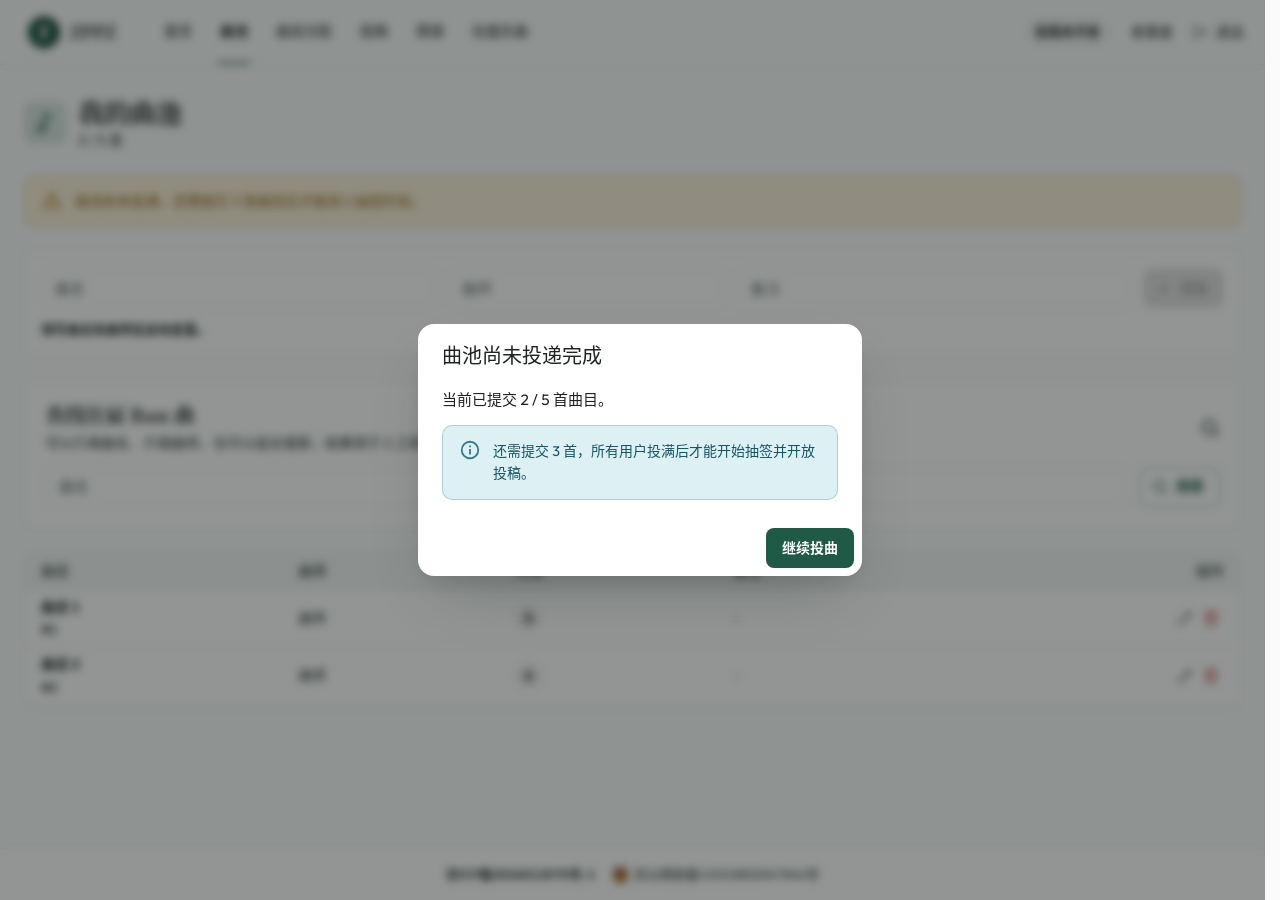
Material application shell › warns when the current user has not filled their song pool
Expected: the dialog "曲池尚未投递完成" is shown, [418,324,862,576]
Expected: the text "曲池尚未投满，还需提交 3 首曲目后才能进入抽签阶段。" is shown, [75,192,425,210]
Click the button "继续投曲" at (810, 548), box [766,528,854,568]
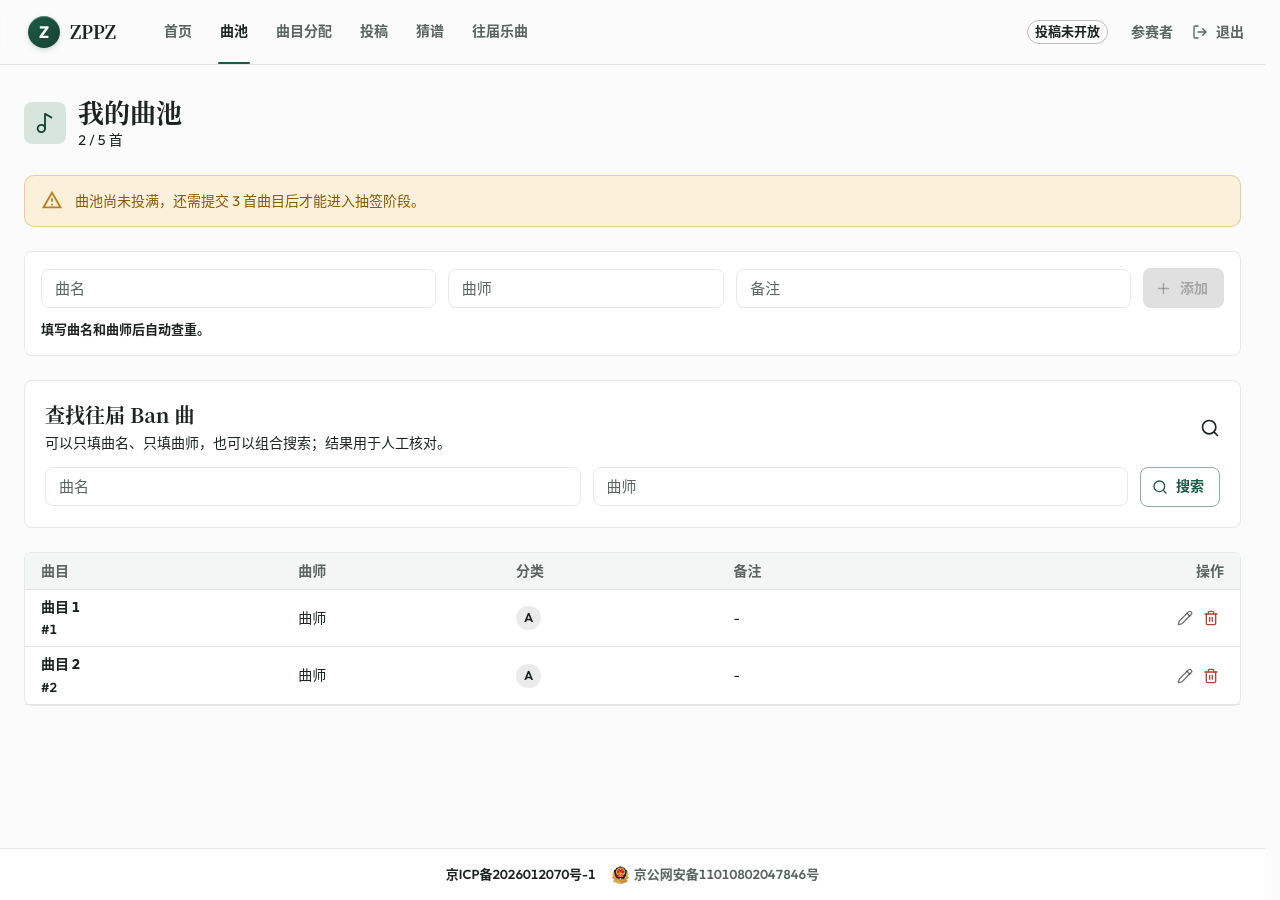
Expected: the text "曲池尚未投满，还需提交 3 首曲目后才能进入抽签阶段。" is shown, [75,192,425,210]
Expected: the heading "曲池尚未投递完成" is gone
